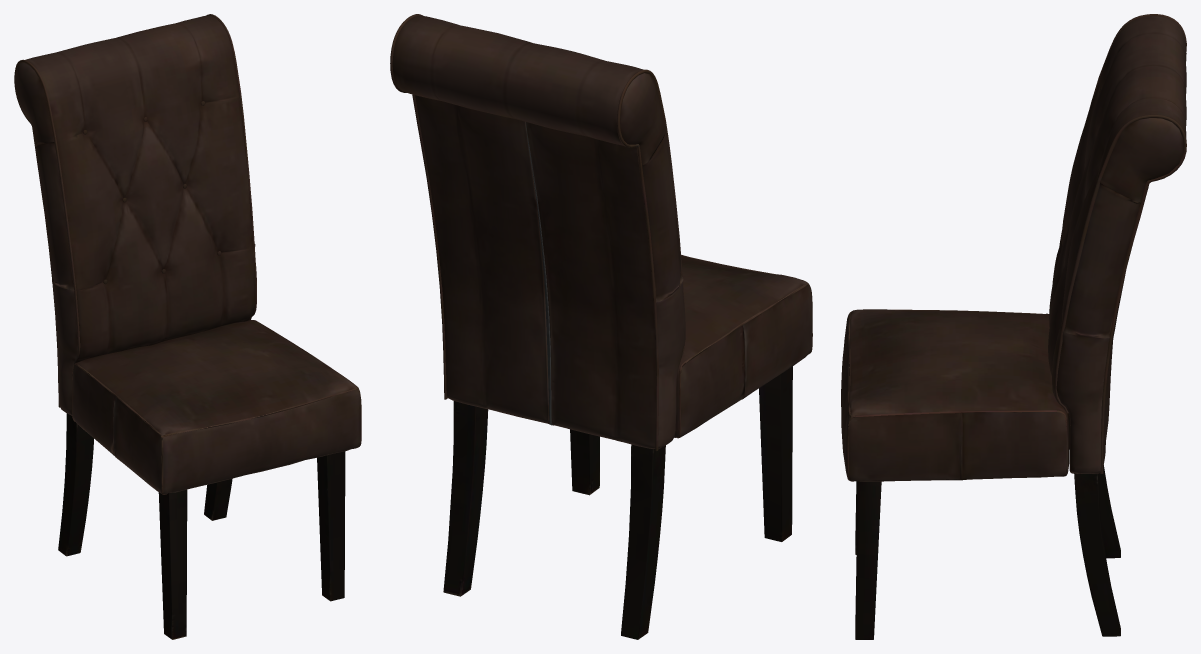
The model's file is dining_chair_02.glb.
The picture shows the model from 3 angles, left to right: view 1: azimuth 30°, elevation 25°; view 2: azimuth 150°, elevation 25°; view 3: azimuth 270°, elevation 25°; orthographic projection. The views are drawn at different scales.
Visible parts, largest first — view 1: dining_chair_02; view 2: dining_chair_02; view 3: dining_chair_02.
Boxes of the visible parts, x1,y1,x2,y2 form: dining_chair_02: [14, 14, 361, 639]; dining_chair_02: [390, 14, 812, 639]; dining_chair_02: [841, 14, 1186, 639].
Bounding box in the file's own units: 0.4336 × 0.9733 × 0.5764.
Materials: 1 (1 with a texture image).
